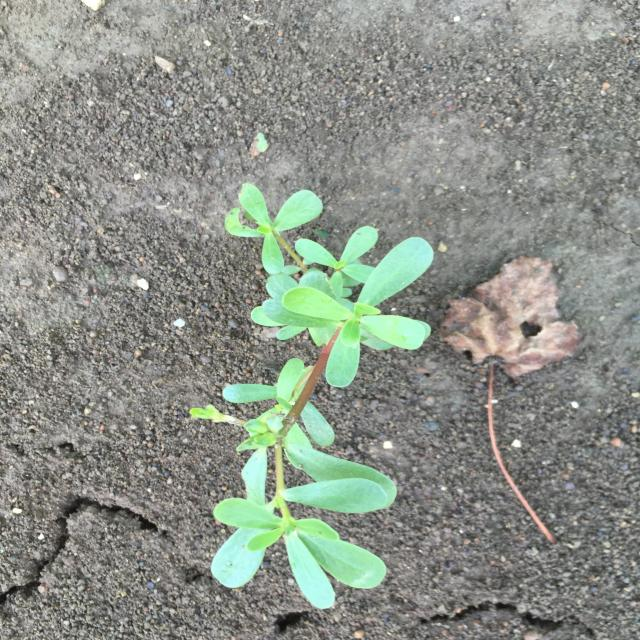Purslane: (190, 184, 431, 610)
